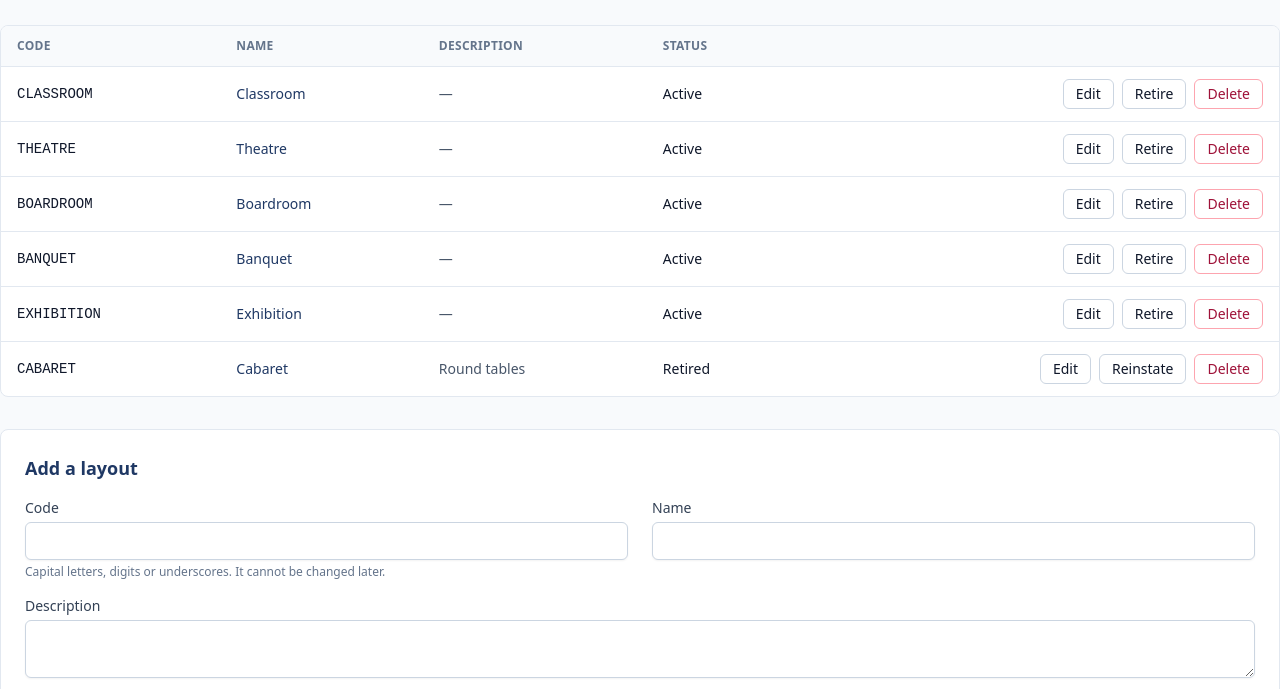
it: RoomLayouts (SCRUM-91) › AC1: shows why a new layout was refused beside the field
Type "THEATRE" into the field labelled "Code" at (326,541), box [25,522,628,560]
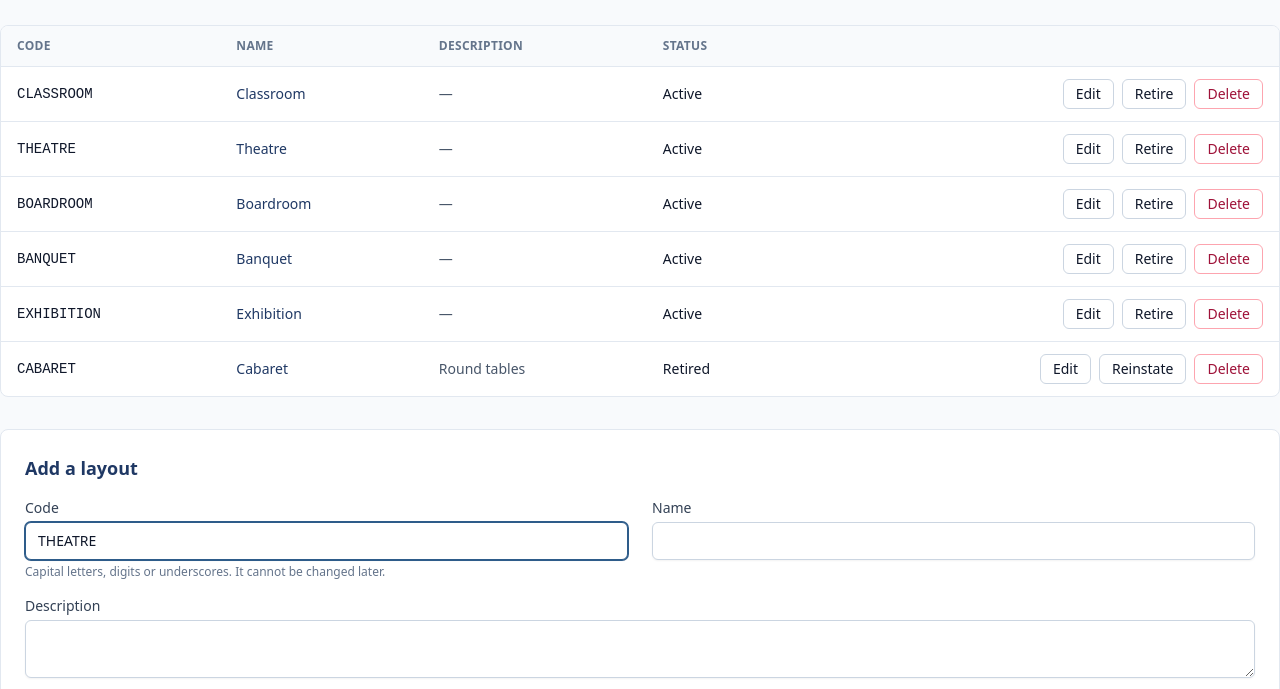
Type "Another" into the field labelled "Name" at (954,541), box [652,522,1255,560]
(page scrolled)
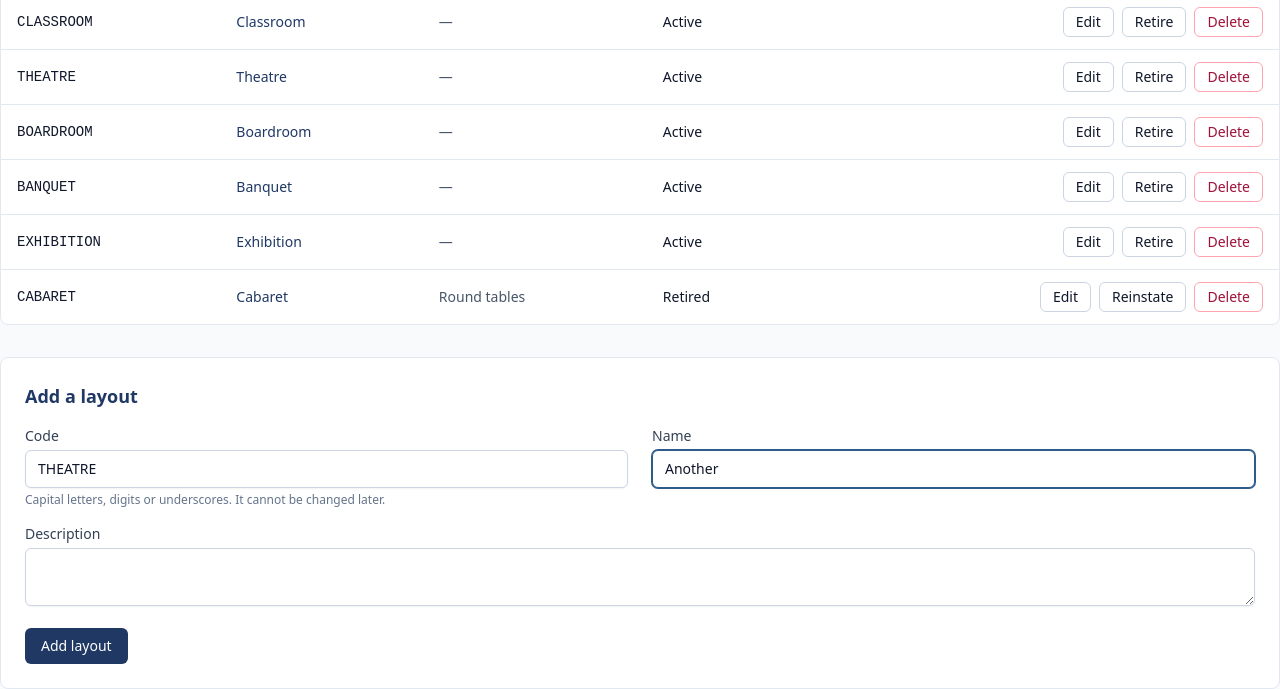
Click the button "Add layout" at (76,646), box [25,628,128,664]
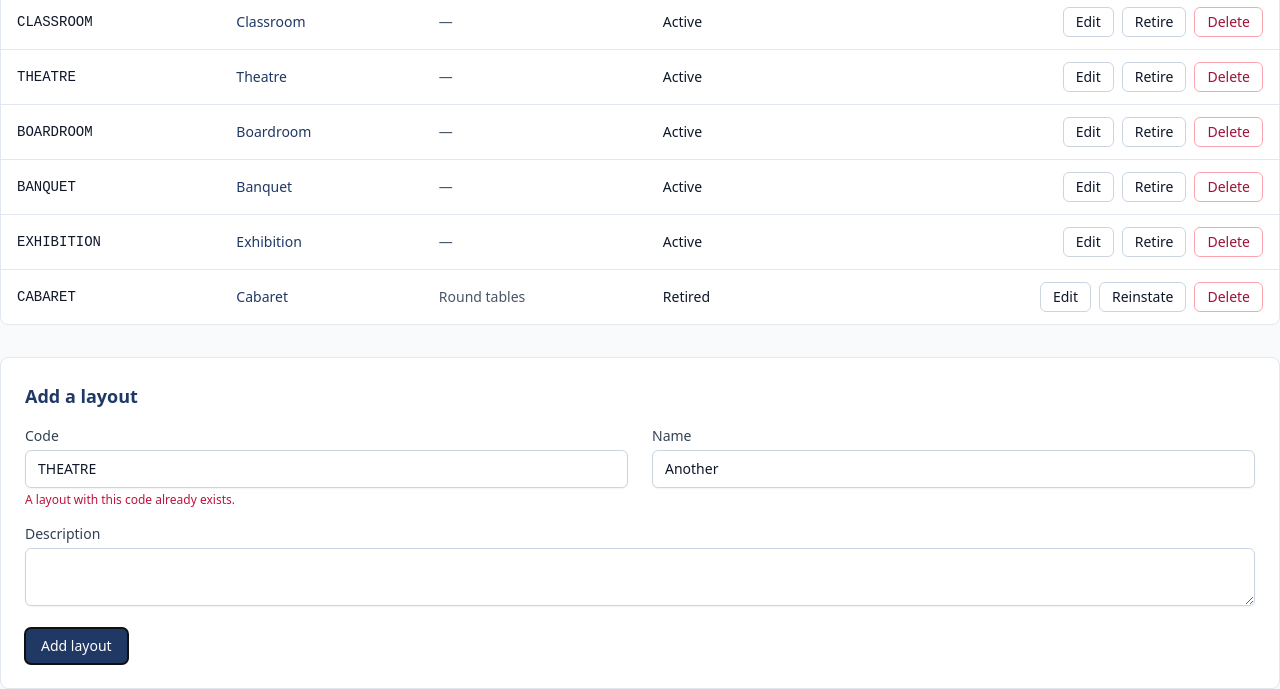
Expected: the text "A layout with this code already exists." is shown, [25,491,235,508]
